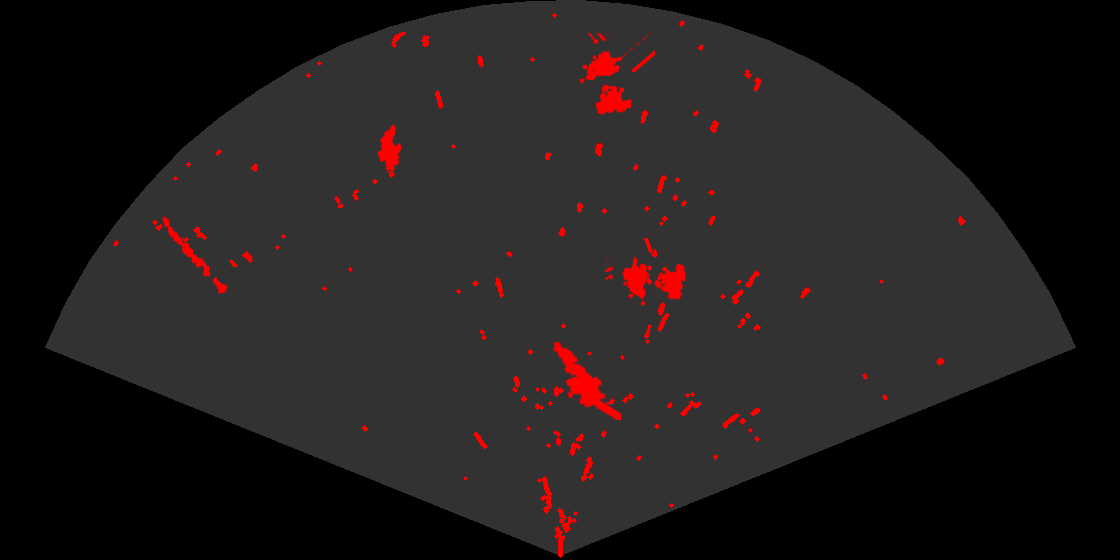AUV: (376, 123, 403, 173)
cage: (578, 33, 655, 116), (605, 238, 688, 308)
chain: (161, 215, 229, 295)
frogman: (551, 340, 621, 420)
